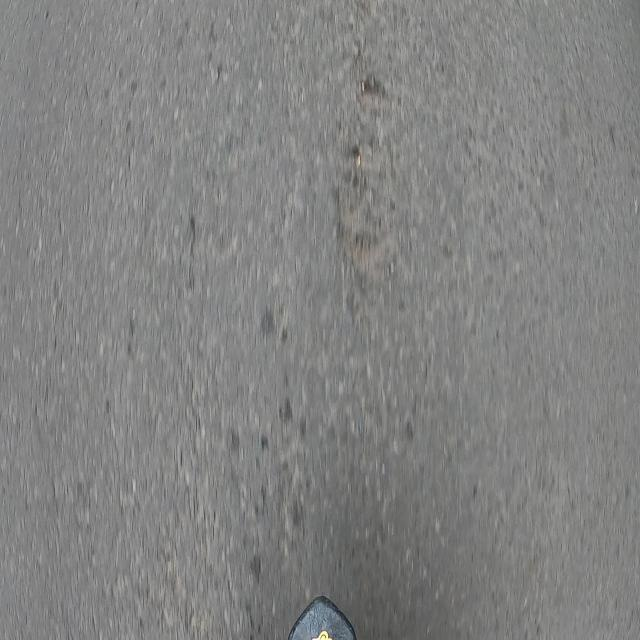Lubang: (333, 145, 402, 281)
